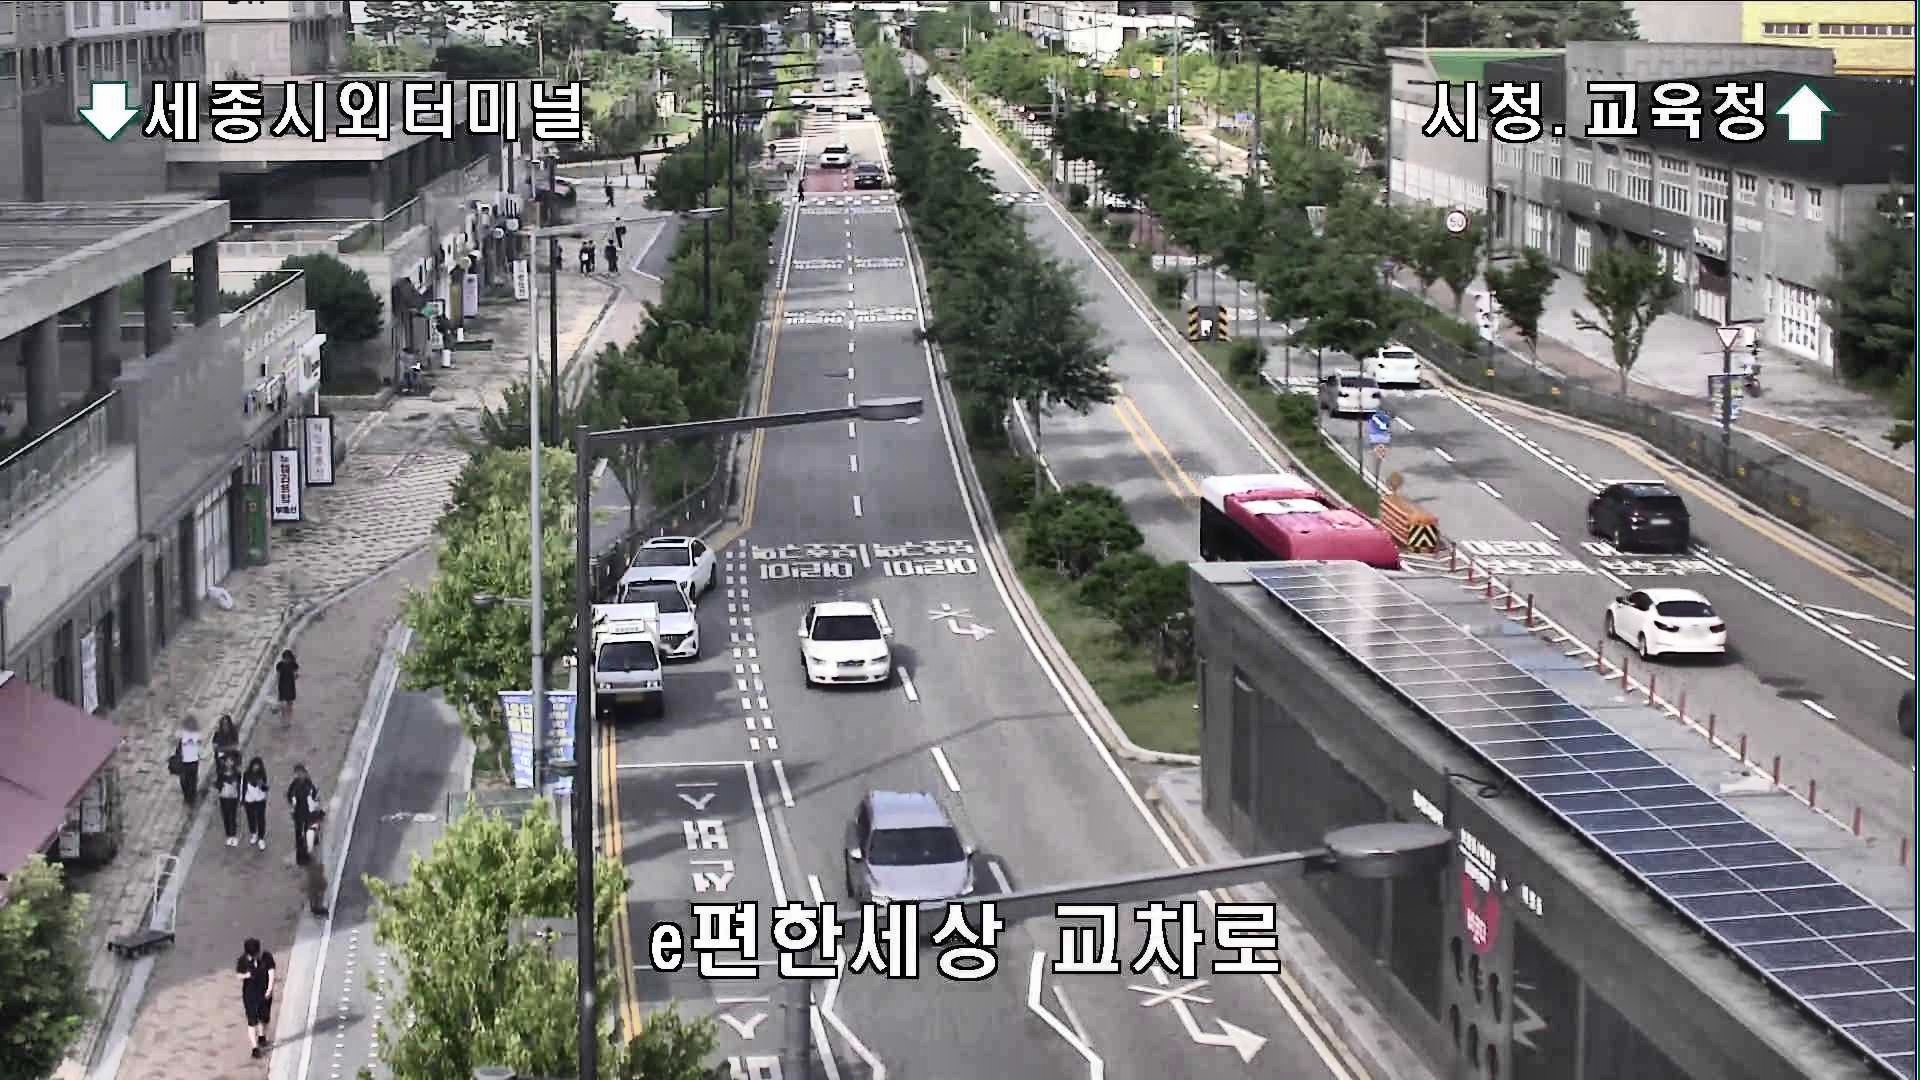crosswalk: (795, 175, 806, 204)
sidewalk: (233, 938, 280, 1060), (293, 808, 330, 916), (286, 761, 320, 866), (171, 708, 200, 808), (241, 754, 270, 851), (214, 752, 241, 849), (272, 646, 302, 728), (210, 712, 241, 787), (1743, 347, 1763, 386), (576, 240, 593, 276), (603, 239, 618, 276), (611, 216, 626, 252)
